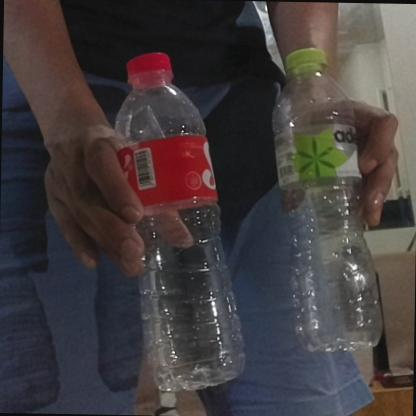plastic_bottles: (113, 51, 254, 392), (271, 44, 387, 348)
